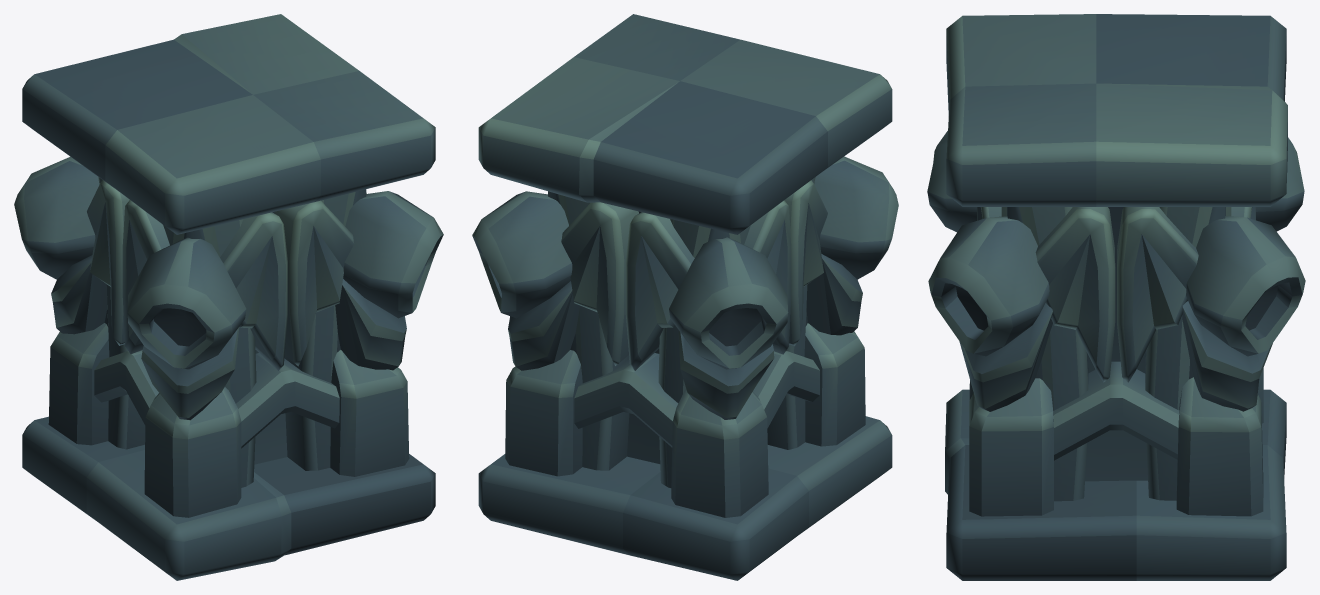
Rendered from pillar_fat_segment_ornate.fbx.
3 views of the same model, side by side, from view 1: azimuth 30°, elevation 25°; view 2: azimuth 150°, elevation 25°; view 3: azimuth 270°, elevation 25° (orthographic). The views are drawn at different scales.
Parts seen in each view (by area): view 1: pillar_fat_segment_ornate; view 2: pillar_fat_segment_ornate; view 3: pillar_fat_segment_ornate.
Boxes of the visible parts, <box> form: pillar_fat_segment_ornate: <box>14,14,443,580</box>; pillar_fat_segment_ornate: <box>472,14,898,580</box>; pillar_fat_segment_ornate: <box>927,14,1305,580</box>.
Bounding box in the file's own units: 160 × 208 × 160.
